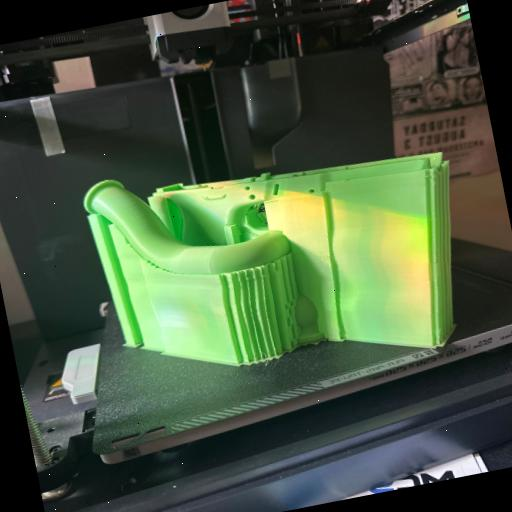cracks: (234, 180, 348, 218)
